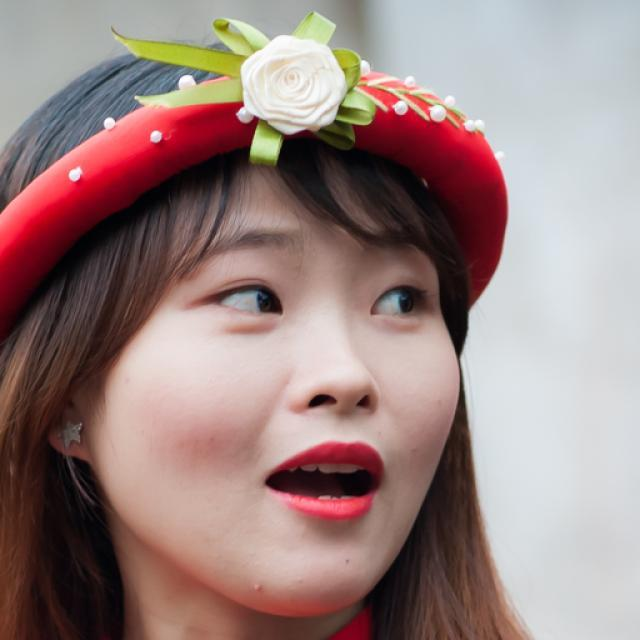surprise: (102, 168, 462, 612)
